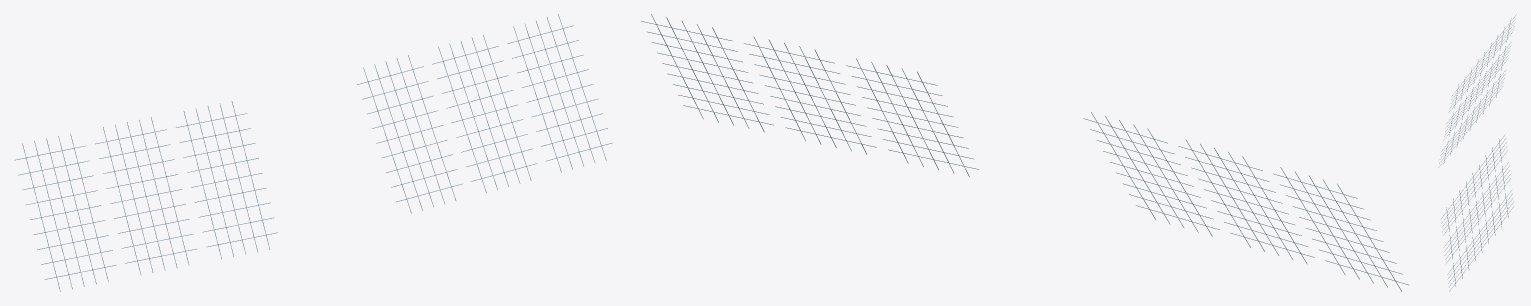
Rendered from solar-array-three--cell-line.glb.
The picture shows the model from 3 angles, left to right: view 1: azimuth 30°, elevation 25°; view 2: azimuth 150°, elevation 25°; view 3: azimuth 270°, elevation 25°; orthographic projection. The views are drawn at different scales.
Visible parts, largest first — view 1: solar-three-a, solar-three-b; view 2: solar-three-b, solar-three-a; view 3: solar-three-b, solar-three-a.
Part boxes in pixels (x1,y1,x2,y2): solar-three-a: (14, 101, 277, 291); solar-three-b: (357, 14, 612, 213); solar-three-b: (641, 14, 978, 176); solar-three-a: (1083, 112, 1409, 291); solar-three-b: (1441, 135, 1513, 291); solar-three-a: (1438, 14, 1516, 167).
Size of the model in its own units: 4.53 by 0.8803 by 0.7437.
